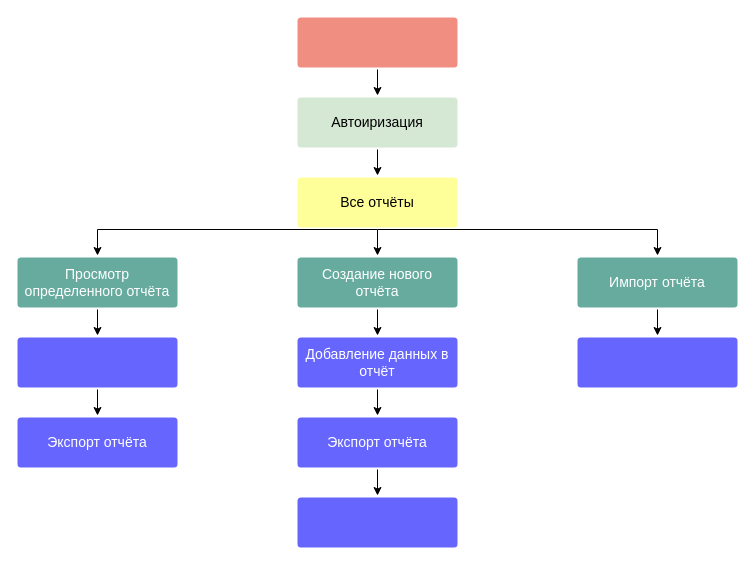
Image size: 754x564. Some labels were removed from this diagram. Here are the shapes that lost their labels. From the top down, the box of each, then its label:
(297, 17, 457, 67): ПО
(17, 337, 177, 387): Редактирование отчёта
(577, 337, 737, 387): Сохранение отчёта в БД
(297, 497, 457, 547): Сохранение отчёта
